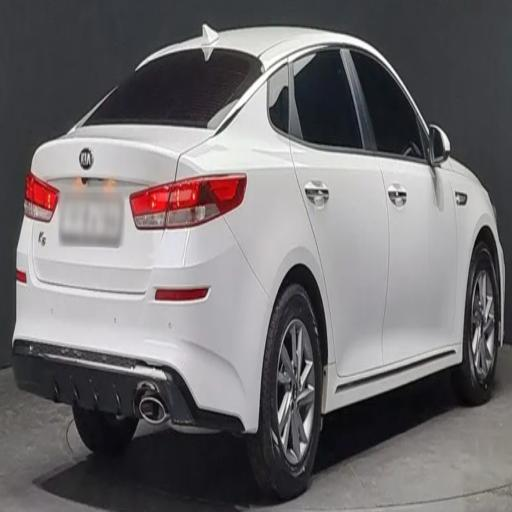normal: (6, 7, 510, 499)
